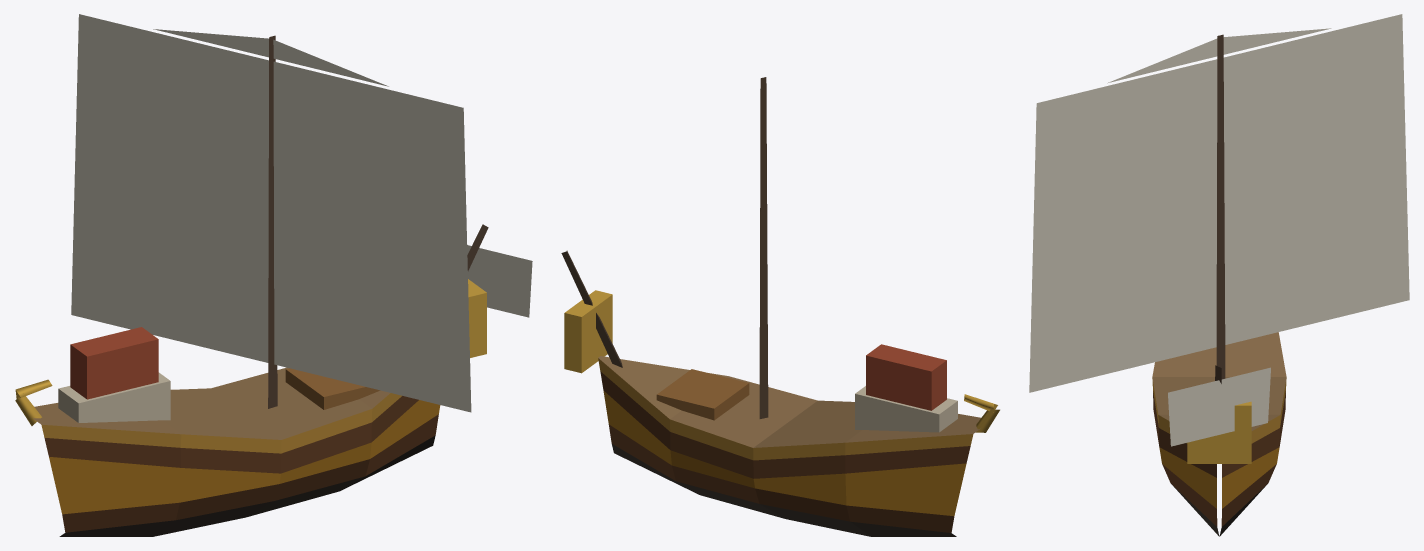
Rendered from titan_dai_lod.glb.
The picture shows the model from 3 angles, left to right: view 1: azimuth 30°, elevation 25°; view 2: azimuth 150°, elevation 25°; view 3: azimuth 270°, elevation 25°; orthographic projection. The views are drawn at different scales.
Visible parts, largest first — view 1: lod; view 2: lod; view 3: lod.
Boxes of the visible parts, bbox=[...] form: lod: bbox=[15, 14, 532, 536]; lod: bbox=[561, 77, 999, 536]; lod: bbox=[1029, 14, 1409, 536].
Size of the model in its own units: 24.93 by 23.04 by 17.57.
